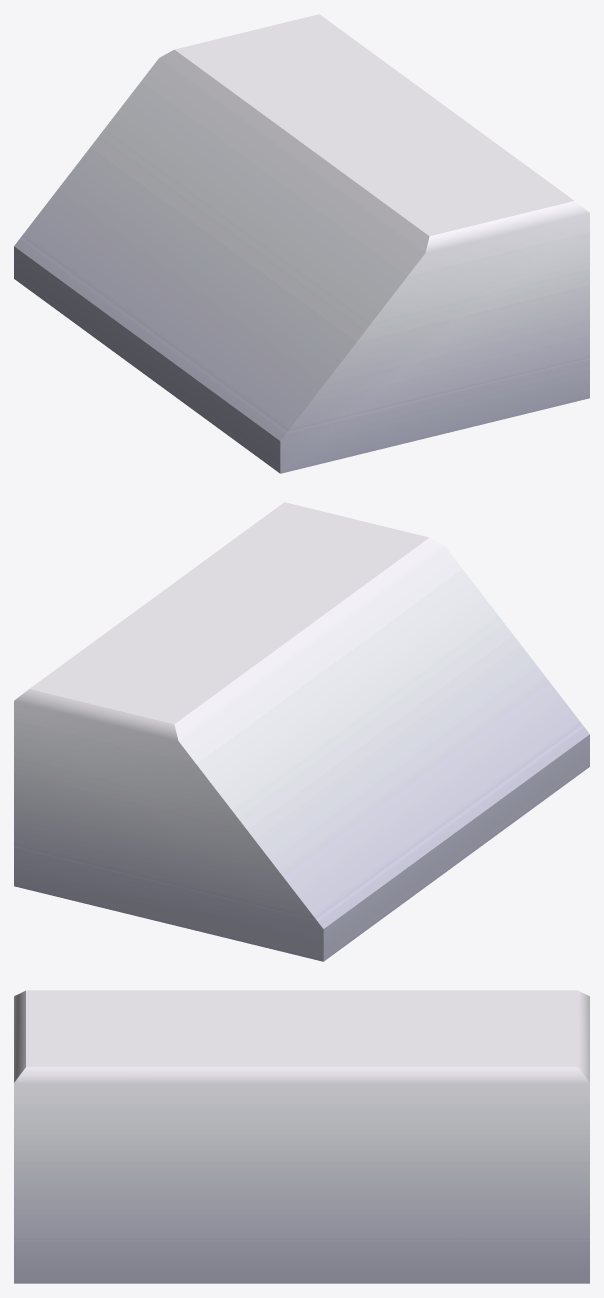
The model's file is none-hq-brick-slope-2x3.glb.
3 views of the same model, one above another, from view 1: azimuth 30°, elevation 25°; view 2: azimuth 150°, elevation 25°; view 3: azimuth 270°, elevation 25° (orthographic). The views are drawn at different scales.
Parts seen in each view (by area): view 1: none-hq-brick-slope-2x3; view 2: none-hq-brick-slope-2x3; view 3: none-hq-brick-slope-2x3.
Part boxes in pixels (<box>): none-hq-brick-slope-2x3: <box>14,14,589,473</box>; none-hq-brick-slope-2x3: <box>14,502,589,961</box>; none-hq-brick-slope-2x3: <box>14,990,589,1283</box>.
Bounding box in the file's own units: 0.159 × 0.096 × 0.237.
1 material, 1 textured.
